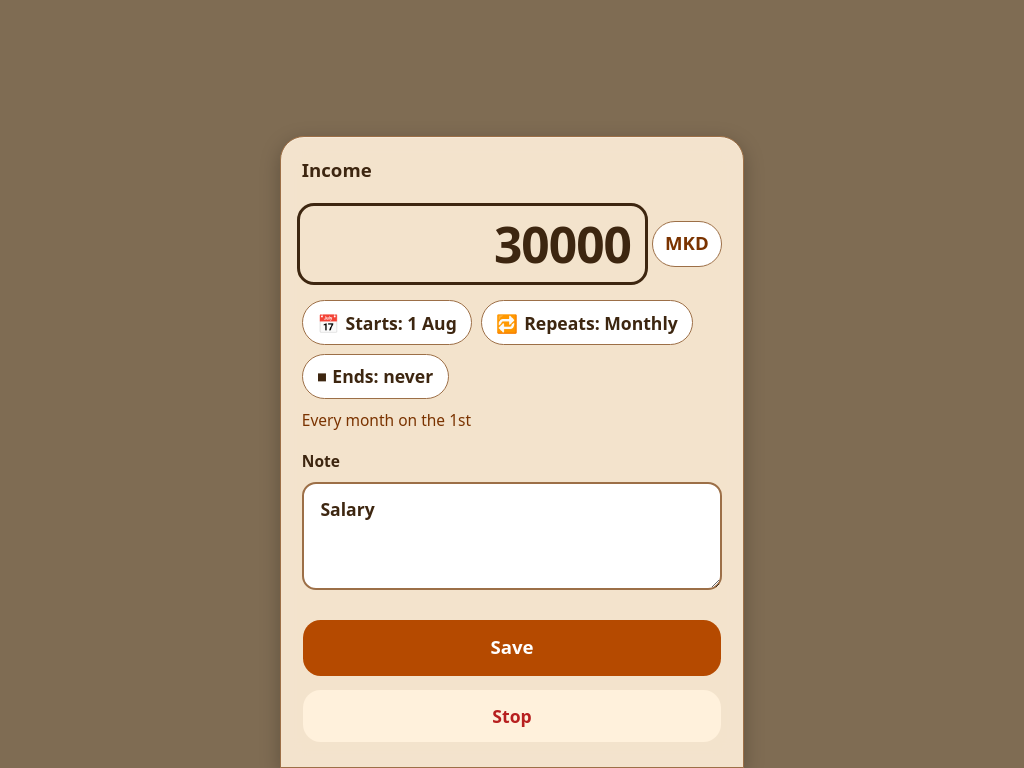
Test: PersonalIncomeSheet, editing a repeating income › opening › swaps Monthly and Weekly with the Repeats chip and never offers Never
This screenshot has width=1024, height=768.
Click the button "🔁 Repeats: Monthly". click: (587, 323)
box: [480,300,693,346]
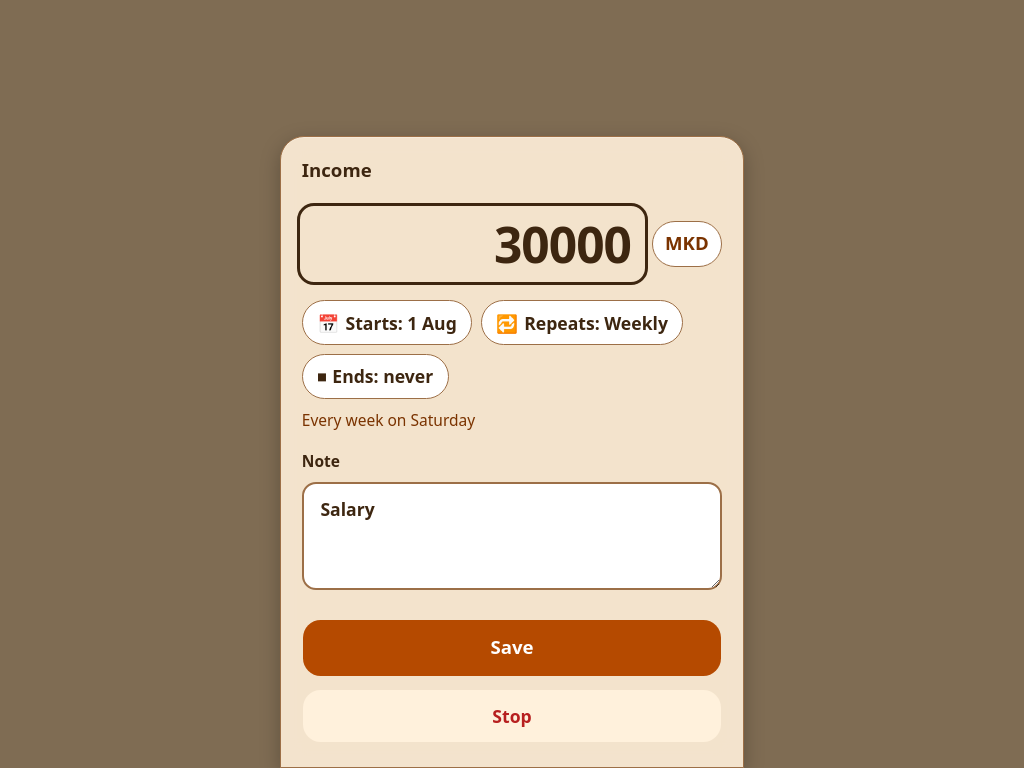
Now the button "🔁 Repeats: Weekly" is shown
Click the button "🔁 Repeats: Weekly". click: (582, 323)
box: [480,300,683,346]
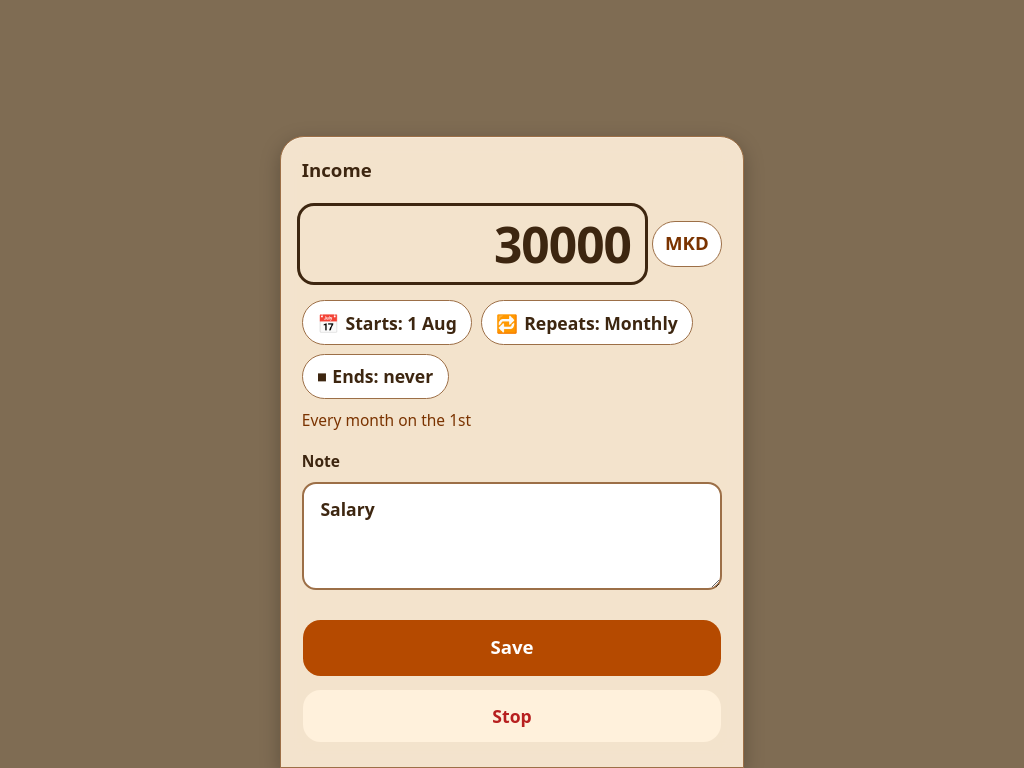
Now the button "🔁 Repeats: Monthly" is shown, box [480,300,693,346]
